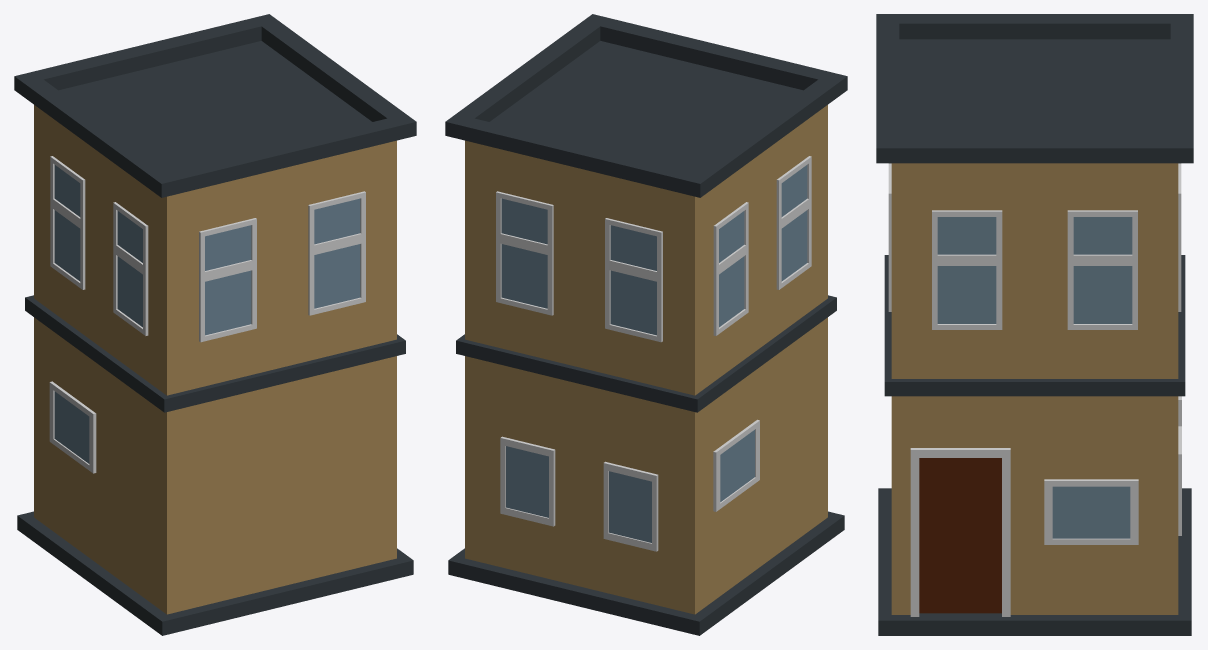
The model's file is 1x1 sand.fbx.
3 renders of one model, left to right at view 1: azimuth 30°, elevation 25°; view 2: azimuth 150°, elevation 25°; view 3: azimuth 270°, elevation 25°, orthographic. The views are drawn at different scales.
Visible parts, largest first — view 1: 1x1 sand; view 2: 1x1 sand; view 3: 1x1 sand.
Boxes of the visible parts, <box> form: 1x1 sand: <box>14,14,416,635</box>; 1x1 sand: <box>445,14,847,635</box>; 1x1 sand: <box>876,14,1193,635</box>.
Size of the model in its own units: 3.74 by 6.35 by 3.74.
